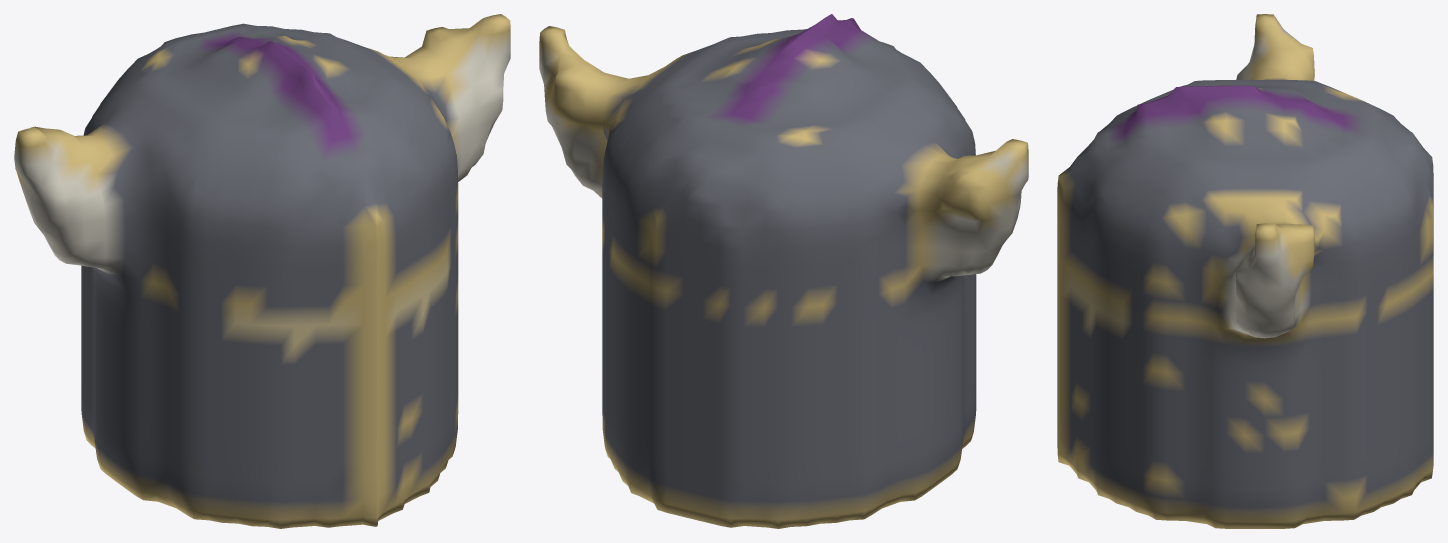
Rendered from plate_legendary_helmet_lod1.glb.
3 renders of one model, left to right at view 1: azimuth 30°, elevation 25°; view 2: azimuth 150°, elevation 25°; view 3: azimuth 270°, elevation 25°, orthographic. The views are drawn at different scales.
Visible parts, largest first — view 1: plate_legendary_helmet_lod1; view 2: plate_legendary_helmet_lod1; view 3: plate_legendary_helmet_lod1.
Boxes of the visible parts, x1,y1,x2,y2 form: plate_legendary_helmet_lod1: (14, 14, 510, 528); plate_legendary_helmet_lod1: (539, 14, 1028, 528); plate_legendary_helmet_lod1: (1057, 14, 1433, 528).
Bounding box in the file's own units: 0.6259 × 0.5031 × 0.4552.
